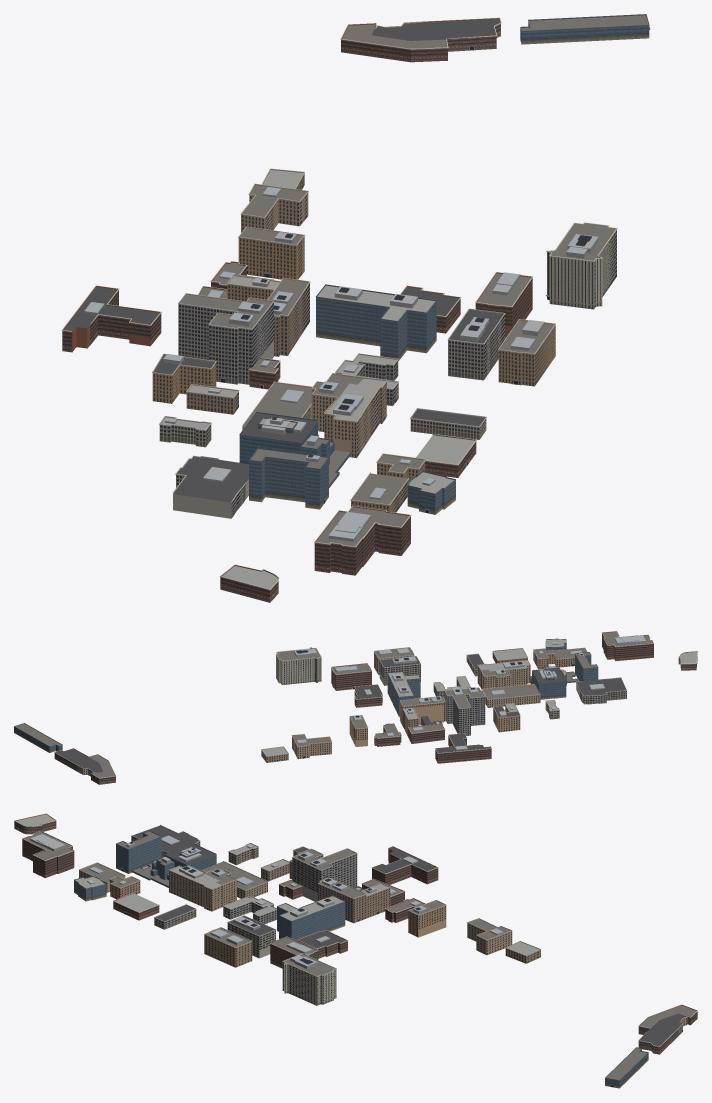
Rendered from buildings-medical.glb.
3 views of the same model, one above another, from view 1: azimuth 30°, elevation 25°; view 2: azimuth 150°, elevation 25°; view 3: azimuth 270°, elevation 25° (orthographic). The views are drawn at different scales.
Visible parts, largest first — view 1: buildings-medical; view 2: buildings-medical; view 3: buildings-medical.
Boxes of the visible parts, <box> form: buildings-medical: <box>61,14,650,602</box>; buildings-medical: <box>14,631,697,784</box>; buildings-medical: <box>14,813,697,1088</box>.
Bounding box in the file's own units: 869 × 56.32 × 940.
Materials: 22 (7 with a texture image).
